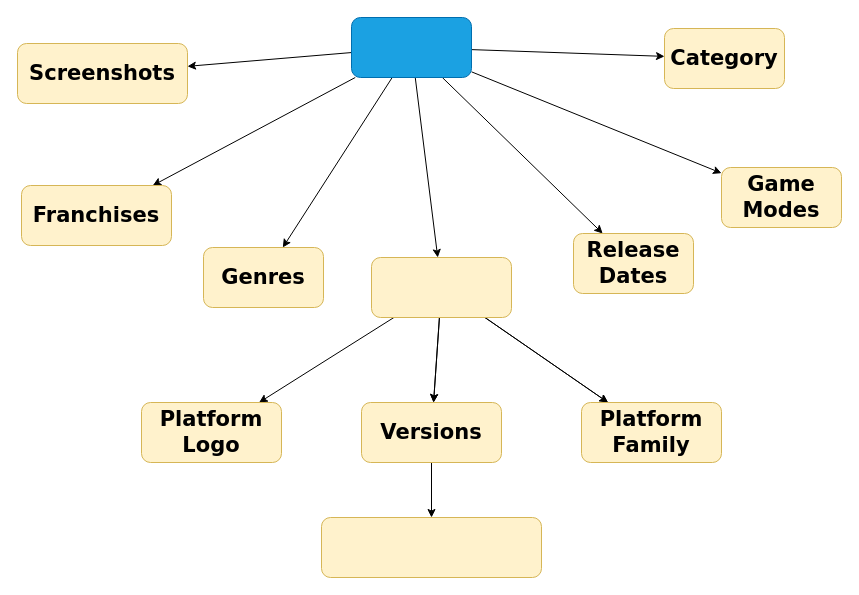
Image size: 859x595. Some labels were removed from this diagram. The shapes that lost their labels are listed below. From the top down, each one's centre as x and y in pixels, then its label:
At [411,47]: "Game".
At [441,287]: "Platforms".
At [431,547]: "Platform Version Release Dates".
